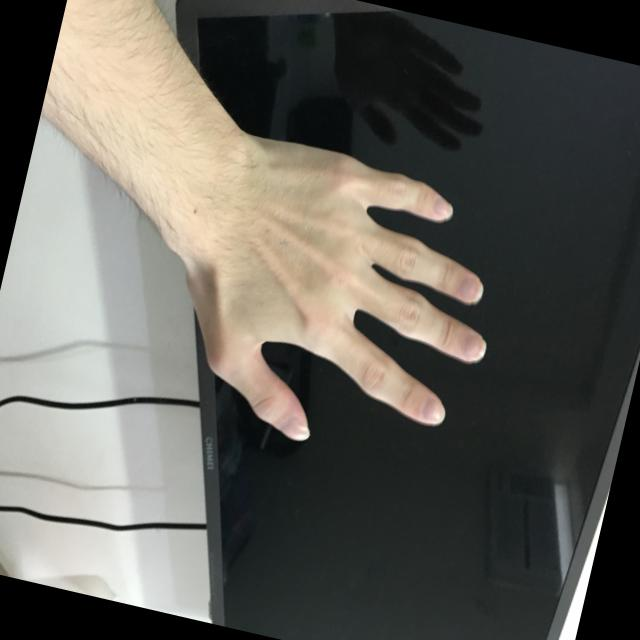Nail: (277, 419, 309, 441), (420, 397, 444, 423), (461, 334, 485, 360), (459, 274, 481, 301), (431, 197, 451, 218)
